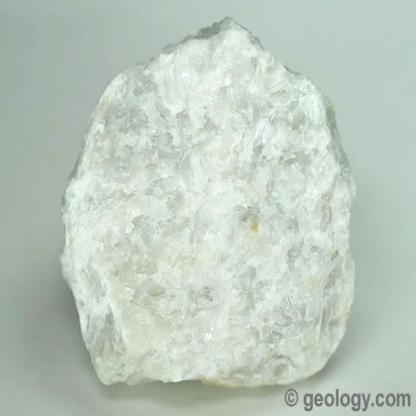Metamorphic_Marble: (59, 11, 359, 389)
